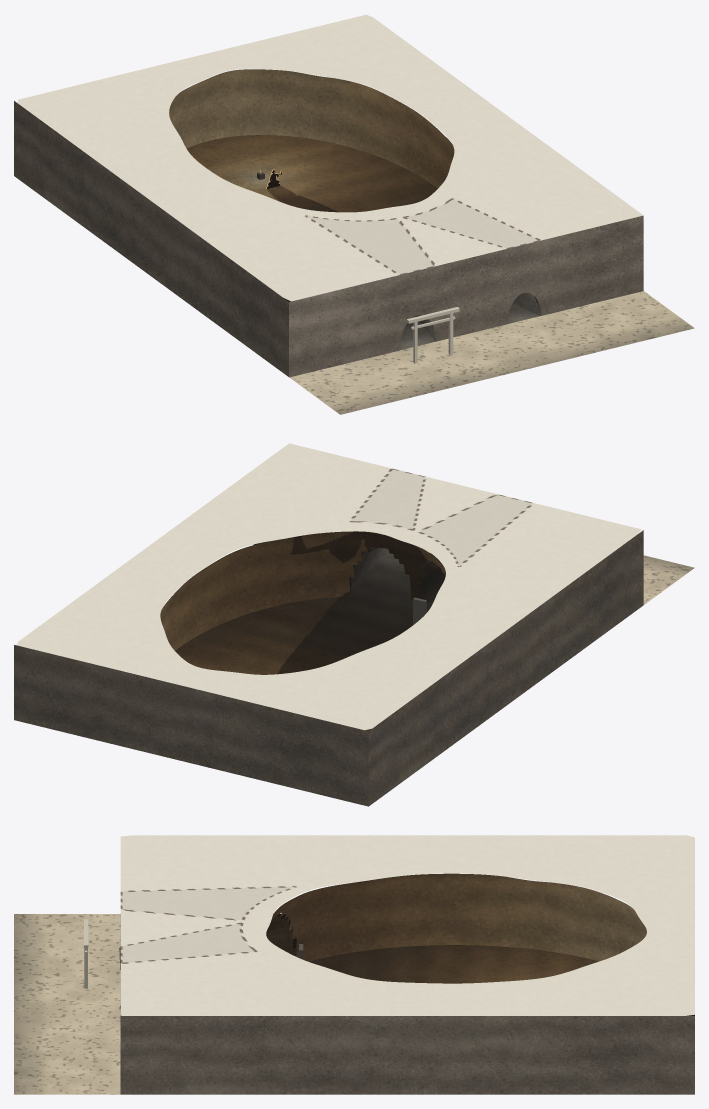
The model's file is shizu-iwaya-1-100.glb.
The picture shows the model from 3 angles, top to bottom: view 1: azimuth 30°, elevation 25°; view 2: azimuth 150°, elevation 25°; view 3: azimuth 270°, elevation 25°; orthographic projection. The views are drawn at different scales.
Visible parts, largest first — view 1: 断面（高さ6.5m）, 床, 崖（前面）, 崖（東面）, 千畳敷; view 2: 断面（高さ6.5m）, 崖（背面）, 崖（東面）, 床, 千畳敷, 第一口の通路, 第二口の通路; view 3: 断面（高さ6.5m）, 崖（西面）, 床, 千畳敷, 第一口の通路.
Part boxes in pixels (x1,y1,x2,y2): 断面（高さ6.5m）: (17, 14, 642, 301); 床: (186, 135, 694, 414); 崖（前面）: (289, 215, 643, 377); 崖（東面）: (14, 101, 288, 376); 千畳敷: (169, 69, 454, 188); 断面（高さ6.5m）: (17, 443, 641, 730); 崖（背面）: (14, 645, 368, 806); 崖（東面）: (368, 530, 643, 806); 床: (175, 531, 694, 730); 千畳敷: (160, 531, 445, 650); 第一口の通路: (418, 559, 445, 602); 第二口の通路: (350, 535, 390, 596); 断面（高さ6.5m）: (120, 835, 694, 1015); 崖（西面）: (120, 1016, 694, 1094); 床: (14, 914, 694, 1094); 千畳敷: (271, 873, 646, 961); 第一口の通路: (119, 916, 296, 969).
Bounding box in the file's own units: 0.32 × 0.065 × 0.51.
Materials: 52 (9 with a texture image).
